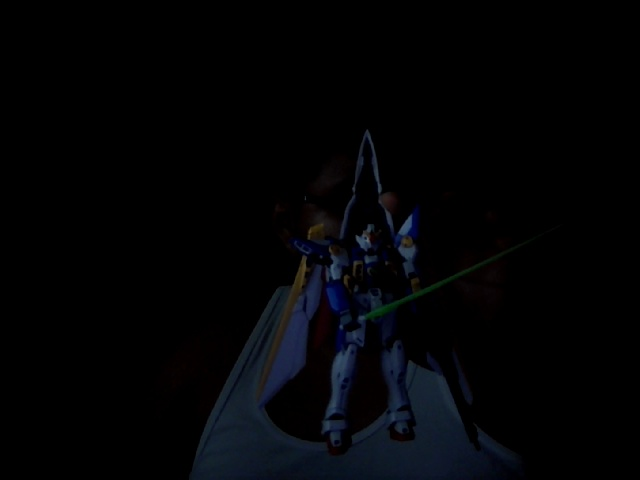Wing-01: (257, 117, 489, 444)
